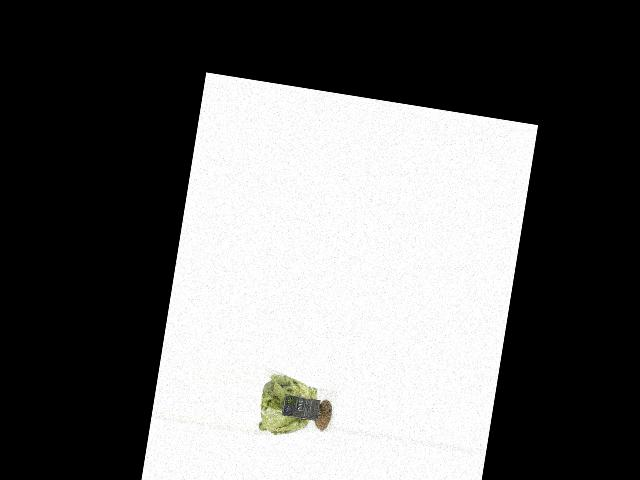lettuce: (254, 368, 341, 445)
